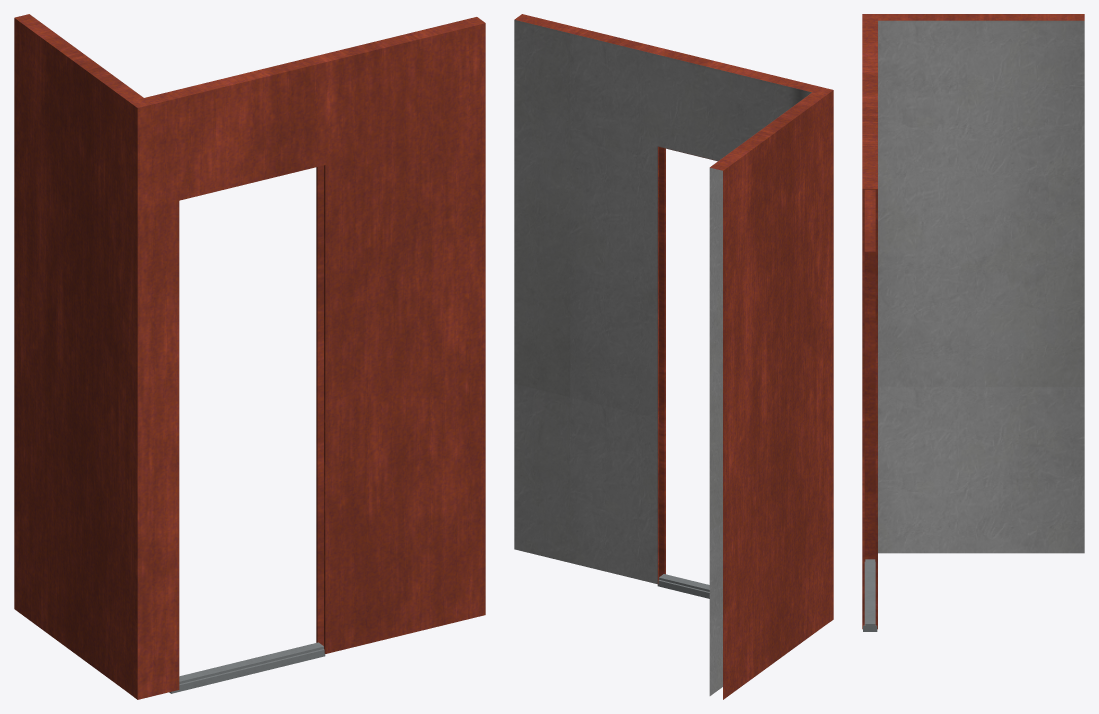
The model's file is SM_Wash_Wall.fbx.
3 renders of one model, left to right at view 1: azimuth 30°, elevation 25°; view 2: azimuth 150°, elevation 25°; view 3: azimuth 270°, elevation 25°, orthographic. The views are drawn at different scales.
Parts seen in each view (by area): view 1: SM_Wash_Wall; view 2: SM_Wash_Wall; view 3: SM_Wash_Wall.
Boxes of the visible parts, x1,y1,x2,y2 form: SM_Wash_Wall: (14, 14, 485, 699); SM_Wash_Wall: (514, 14, 833, 699); SM_Wash_Wall: (862, 14, 1084, 631).
Size of the model in its own units: 162 by 99.68 by 265.
Materials: 1 (1 with a texture image).
